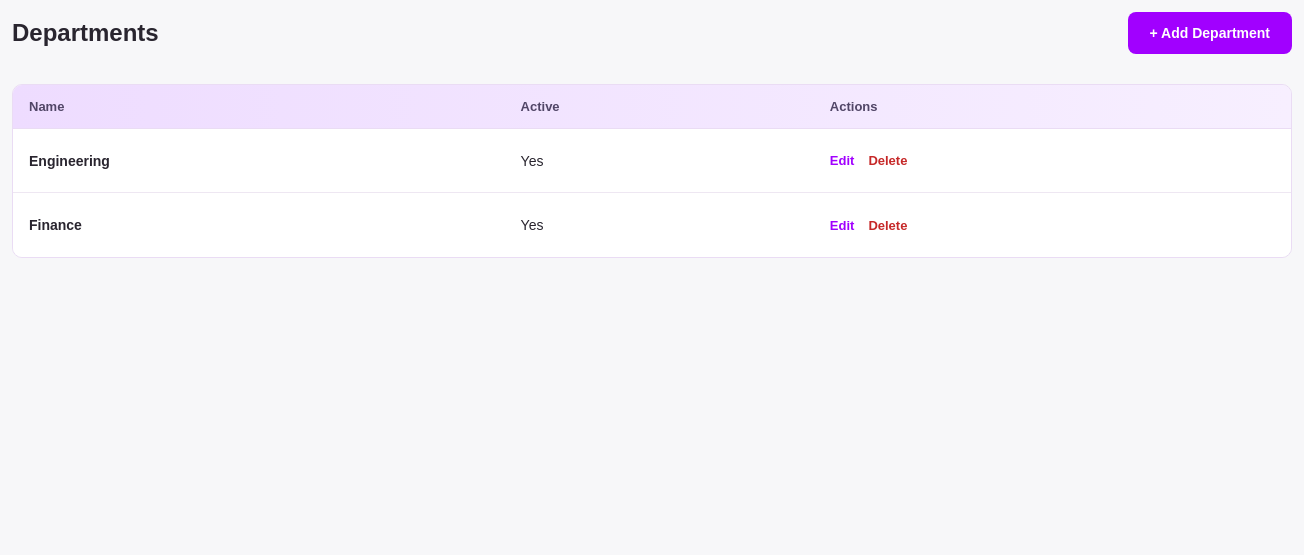
Test case: MasterDataTable › shows a validation error when the required text field is empty on submit
Expected: the text "Engineering" is shown, [13,129,505,193]
Click the button "+ Add Department": (1210,33) [1128,12,1292,54]
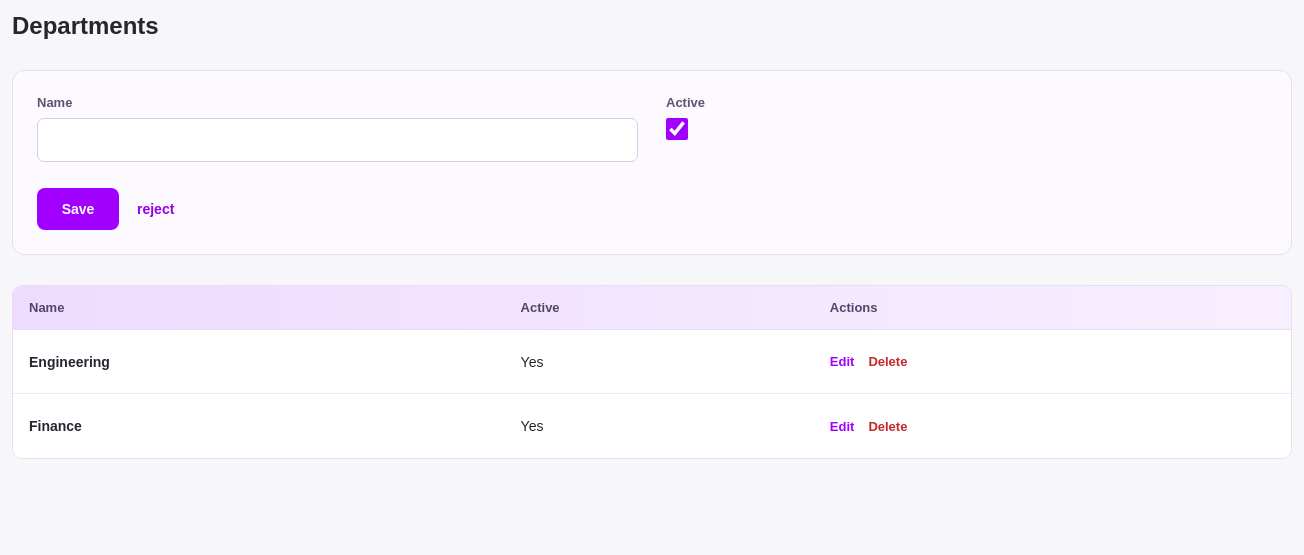
Click the button "Save": (78,209) [37,188,119,230]
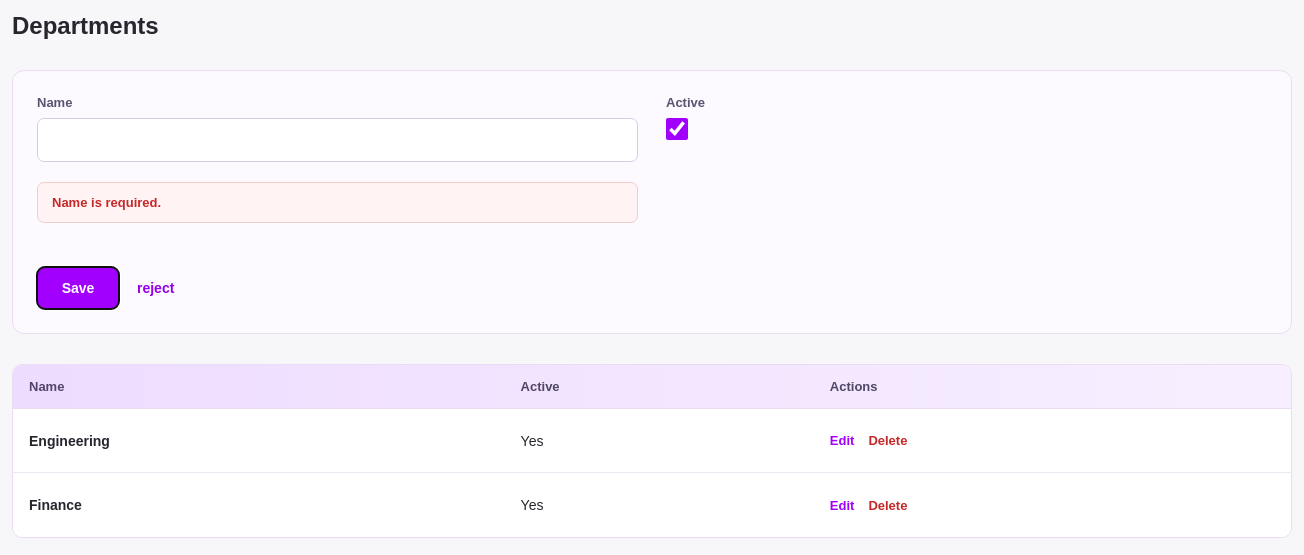
Expected: the text "Name is required." is shown, [37,182,638,223]
